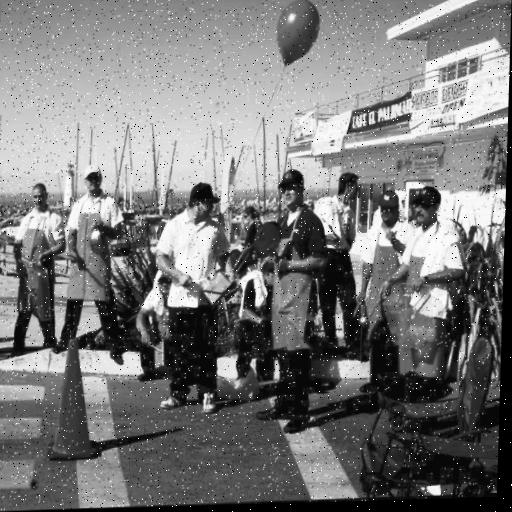balloon: (270, 0, 325, 67)
